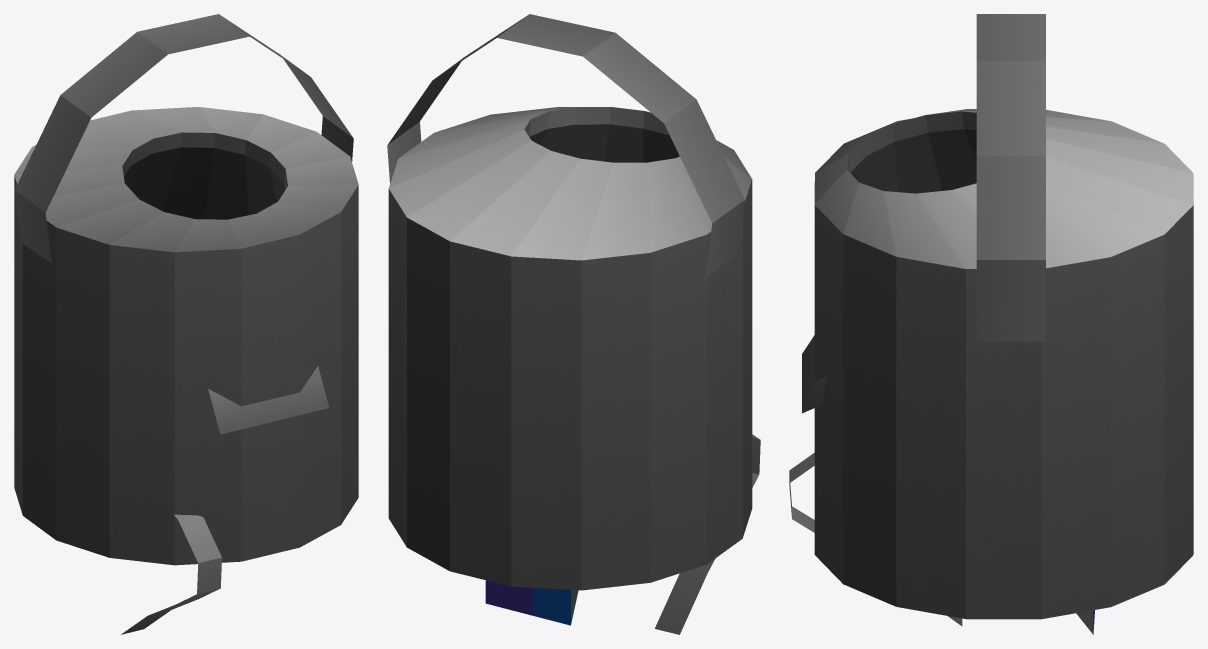
The model's file is regador.dae.
3 views of the same model, side by side, from view 1: azimuth 30°, elevation 25°; view 2: azimuth 150°, elevation 25°; view 3: azimuth 270°, elevation 25° (orthographic). The views are drawn at different scales.
Visible parts, largest first — view 1: Cylinder.001, Plane, Cube.001, Plane.001; view 2: Cylinder.001, Plane, Cube.001, Plane.001; view 3: Cylinder.001, Plane, Cube.001, Plane.001.
Part boxes in pixels (left/top/right/bottom): Cylinder.001: left=14, top=107, right=358, bottom=565; Plane: left=14, top=14, right=353, bottom=263; Cube.001: left=208, top=366, right=329, bottom=434; Plane.001: left=121, top=514, right=221, bottom=634; Cylinder.001: left=388, top=107, right=752, bottom=590; Plane: left=387, top=14, right=744, bottom=286; Cube.001: left=485, top=580, right=578, bottom=625; Plane.001: left=654, top=434, right=760, bottom=634; Cylinder.001: left=814, top=109, right=1193, bottom=619; Plane: left=976, top=14, right=1045, bottom=341; Cube.001: left=802, top=335, right=1094, bottom=634; Plane.001: left=789, top=453, right=962, bottom=626.
Bounding box in the file's own units: 2.06 × 2.09 × 3.6.
